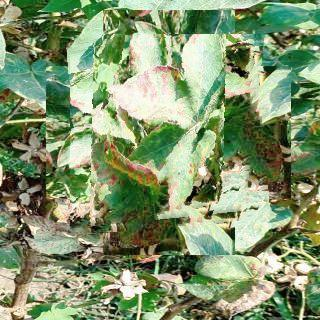blight: (70, 34, 267, 231)
